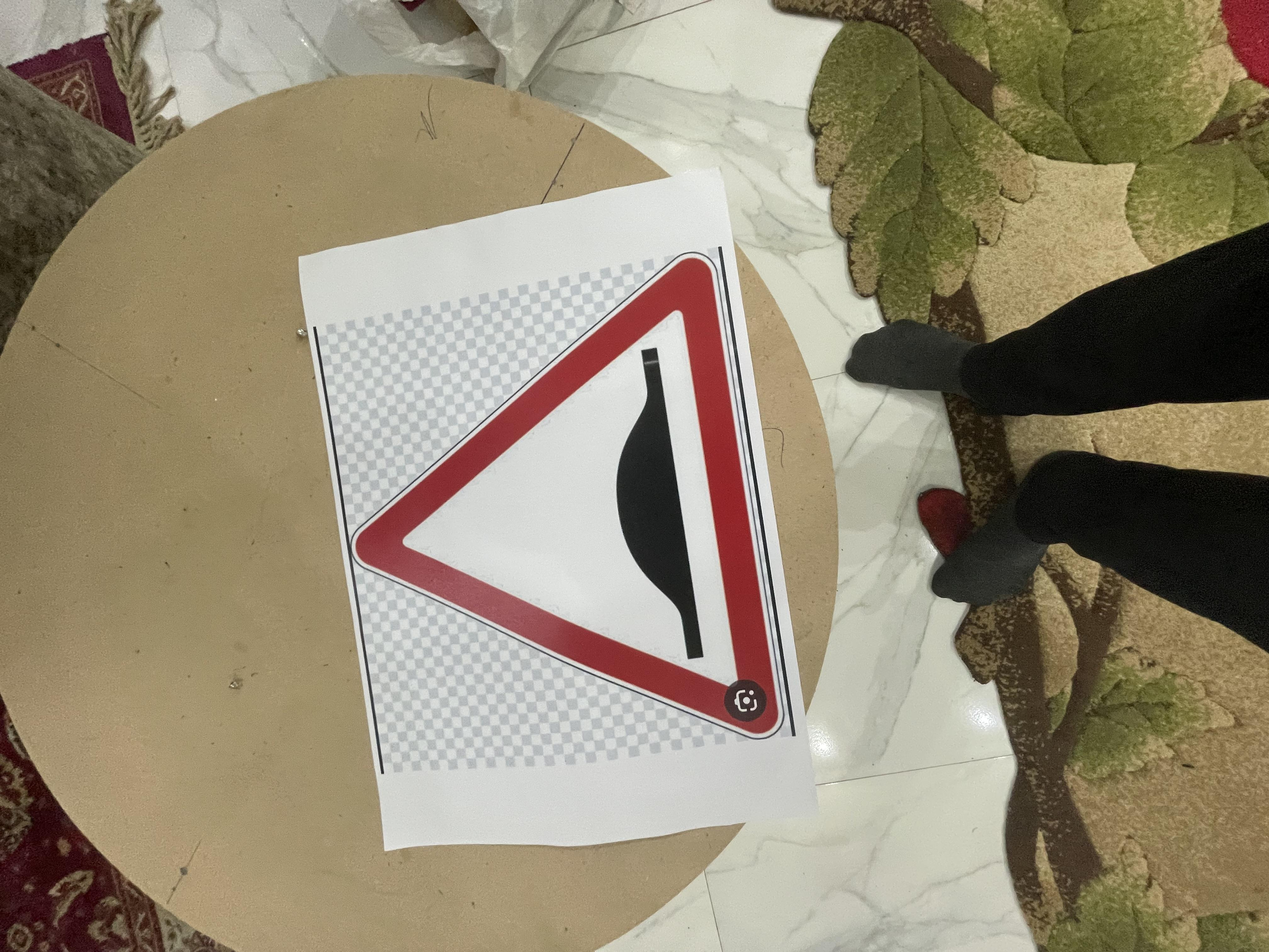Hump: (352, 251, 779, 733)
